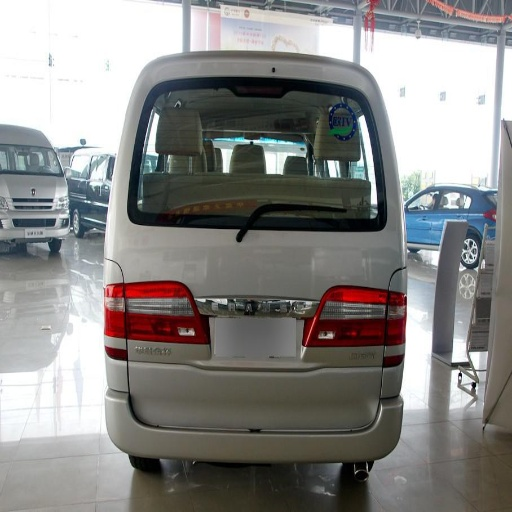back_bumper: (103, 347, 405, 475)
